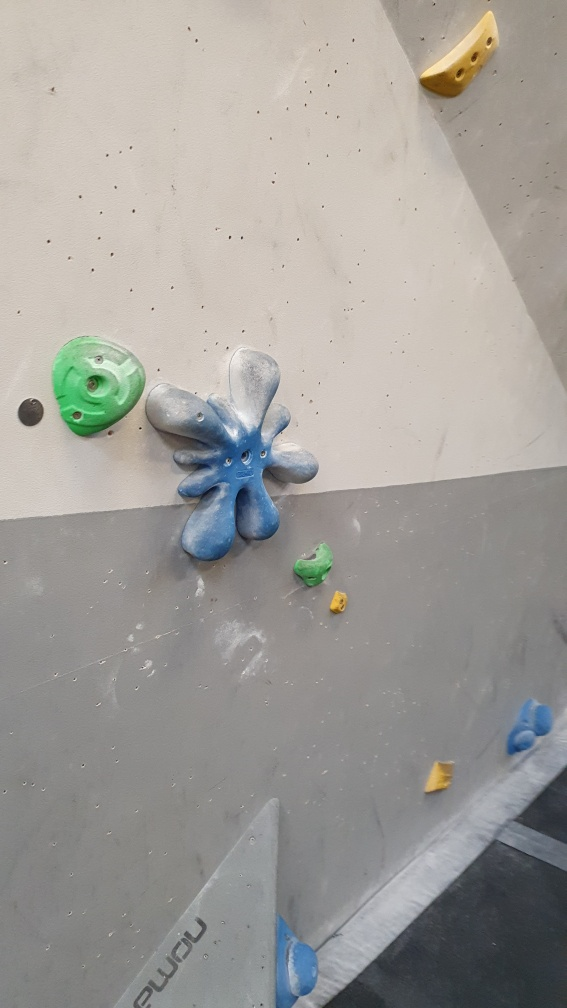Hand Start: (13, 392, 47, 431)
Jug: (50, 326, 150, 443), (292, 534, 341, 592)
Octopus Pinch: (149, 342, 323, 571)
Sloper: (272, 914, 320, 1007)
